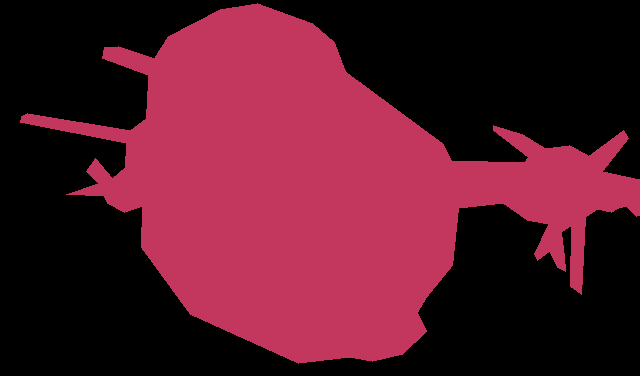Airplane: (20, 3, 640, 363)
